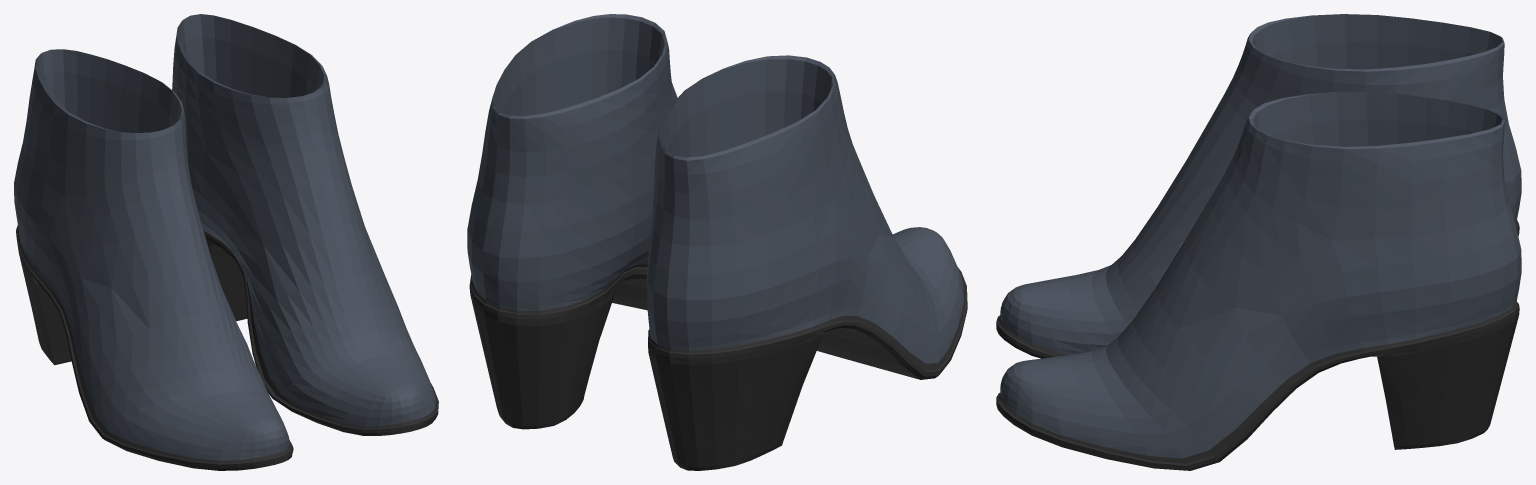
The model's file is bootieSeparated.obj.
3 renders of one model, left to right at view 1: azimuth 30°, elevation 25°; view 2: azimuth 150°, elevation 25°; view 3: azimuth 270°, elevation 25°, orthographic. The views are drawn at different scales.
Visible parts, largest first — view 1: Boot.001_Cylinder.001, Boot_Cylinder.002; view 2: Boot.001_Cylinder.001, Boot_Cylinder.002; view 3: Boot_Cylinder.002, Boot.001_Cylinder.001.
Boxes of the visible parts, box(x1,y1,x2,y2) form: Boot.001_Cylinder.001: box(14, 49, 293, 470); Boot_Cylinder.002: box(172, 14, 438, 435); Boot.001_Cylinder.001: box(647, 55, 967, 470); Boot_Cylinder.002: box(467, 14, 677, 429); Boot_Cylinder.002: box(996, 91, 1521, 470); Boot.001_Cylinder.001: box(996, 14, 1521, 358).
Bounding box in the file's own units: 20.99 × 17.45 × 26.8.
